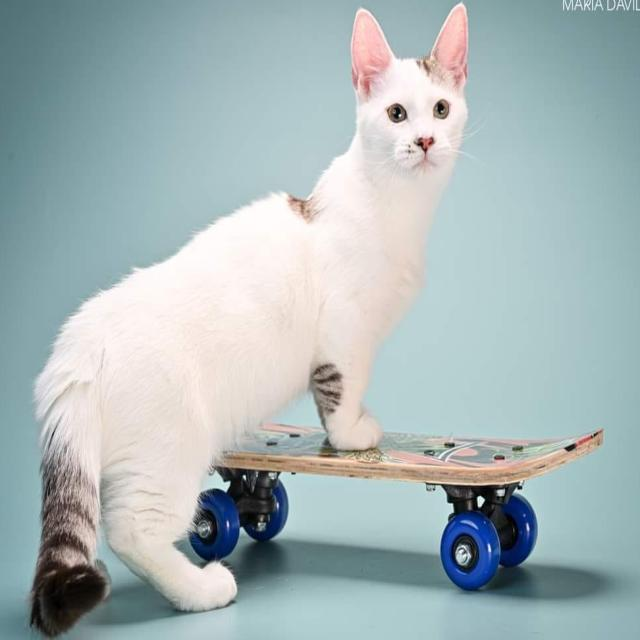Munchkin: (24, 0, 475, 640)
